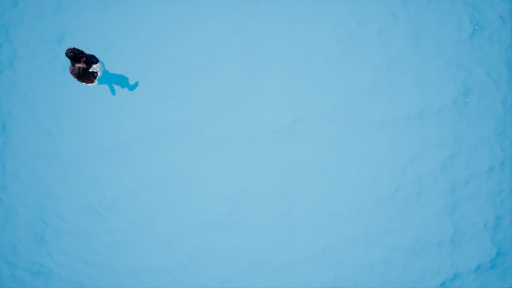person: (64, 46, 143, 100)
